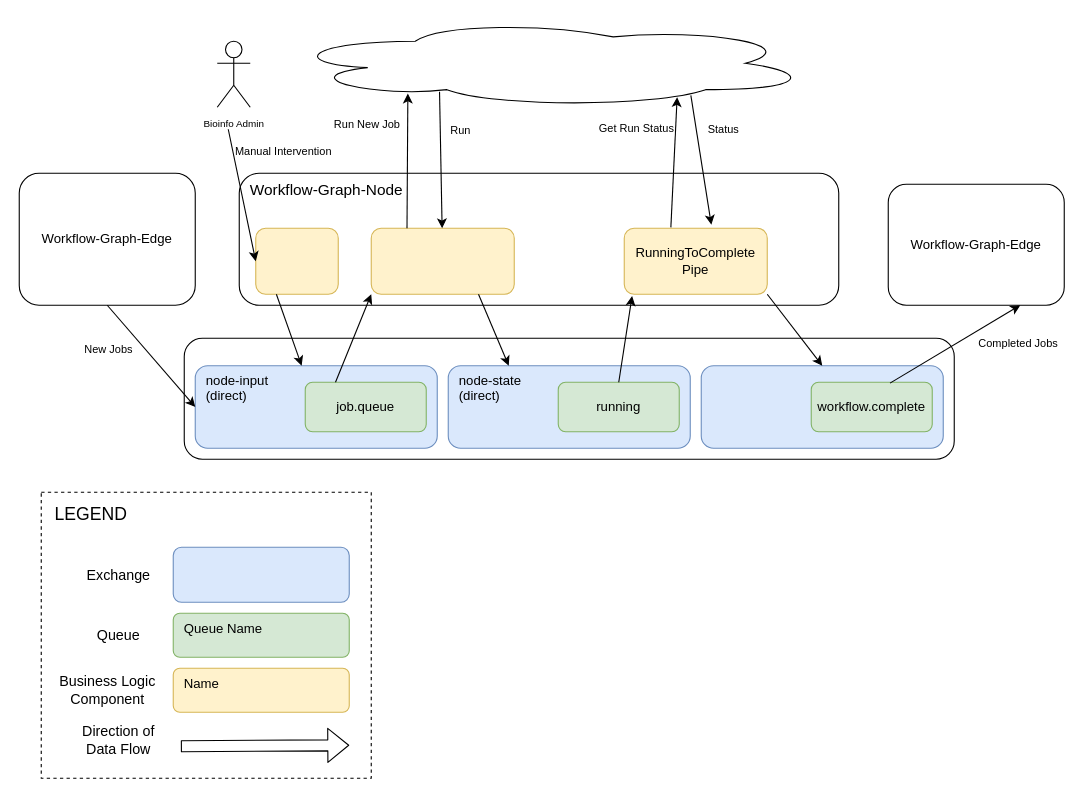
This 1084x798 diagram has some shape labels left out. The shapes that lost their labels are listed below. From the top down, each one's box as (x1, y1, x2, y2) in pixels, then its label:
(282, 18, 811, 107): RDPC Gateway
(255, 227, 338, 294): HTTP Ingest Pipe
(370, 227, 514, 294): QueuedToRunning Pipe
(183, 337, 954, 459): RabbitMQ
(700, 365, 943, 448): node-complete (topic)
(172, 546, 349, 602): Exchange Name Exchange Type
